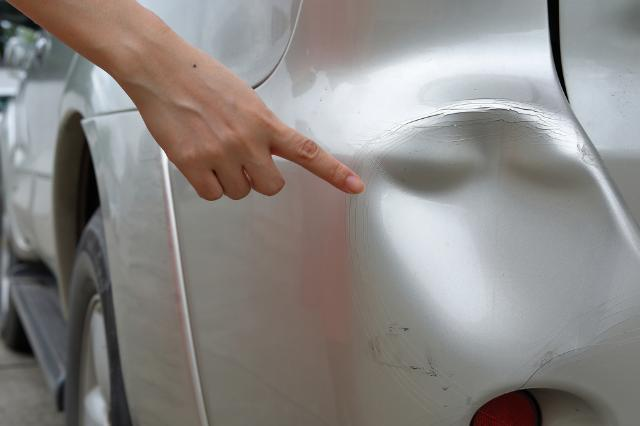dent: (352, 102, 640, 400)
